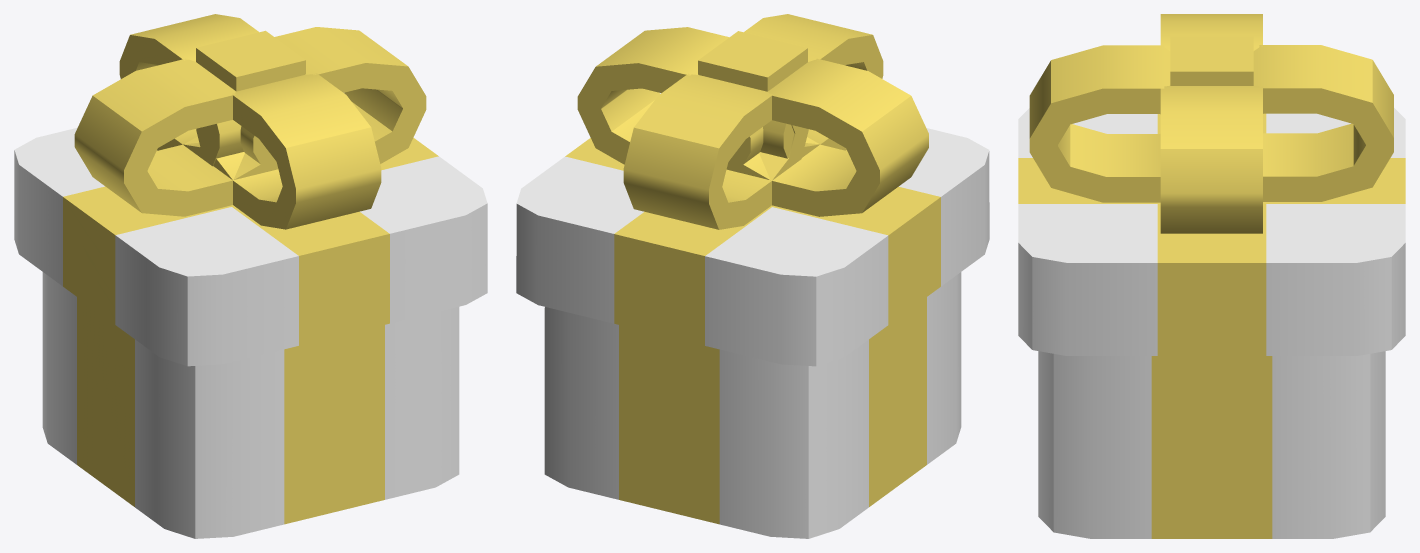
Rendered from Present_A.fbx.
3 views of the same model, side by side, from view 1: azimuth 30°, elevation 25°; view 2: azimuth 150°, elevation 25°; view 3: azimuth 270°, elevation 25° (orthographic). The views are drawn at different scales.
Parts seen in each view (by area): view 1: Present_A; view 2: Present_A; view 3: Present_A.
Part boxes in pixels (left/top/right/bottom): Present_A: left=14, top=14, right=487, bottom=538; Present_A: left=516, top=14, right=989, bottom=538; Present_A: left=1018, top=14, right=1405, bottom=538.
Bounding box in the file's own units: 123 × 145 × 123.
